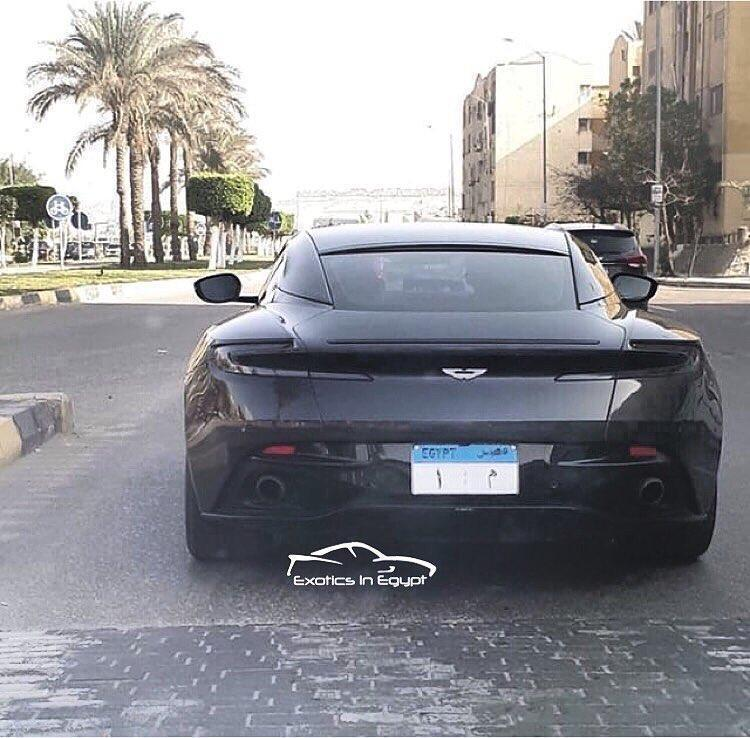1: (431, 467, 446, 491)
License Plate: (409, 442, 522, 498)
Meem: (486, 466, 500, 490)
car: (183, 221, 723, 574), (572, 219, 650, 297)
